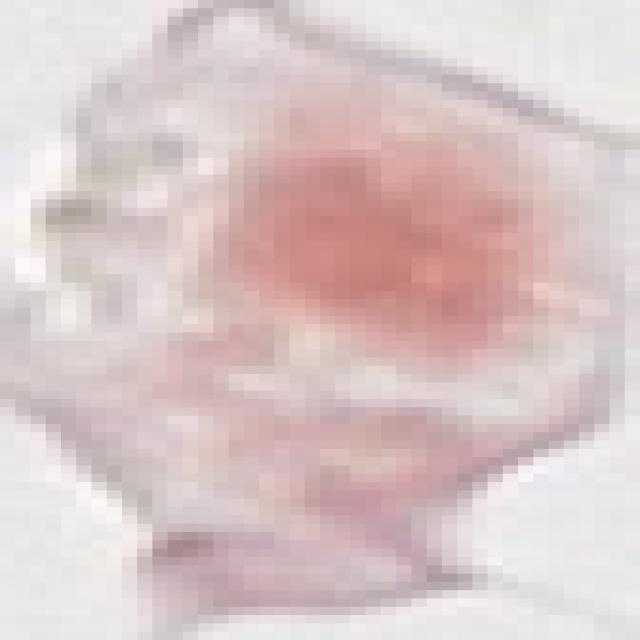nucleus: (179, 11, 609, 443)
